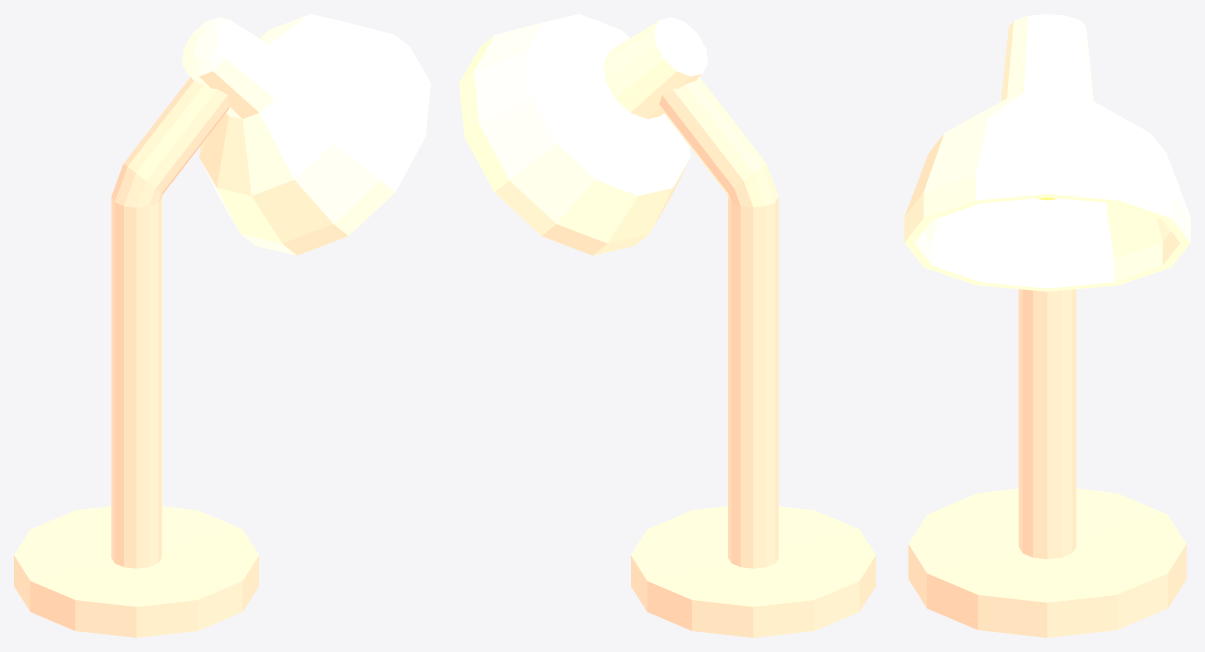
File: lamp.glb
3 views of the same model, side by side, from view 1: azimuth 30°, elevation 25°; view 2: azimuth 150°, elevation 25°; view 3: azimuth 270°, elevation 25° (orthographic). The views are drawn at different scales.
Parts seen in each view (by area): view 1: Circle; view 2: Circle; view 3: Circle.
Part boxes in pixels (x1,y1,x2,y2): Circle: (14,14,430,637); Circle: (459,14,875,637); Circle: (904,14,1190,637).
Bounding box in the file's own units: 17.32 × 23.72 × 9.97.
Materials: 1 (1 with a texture image).
